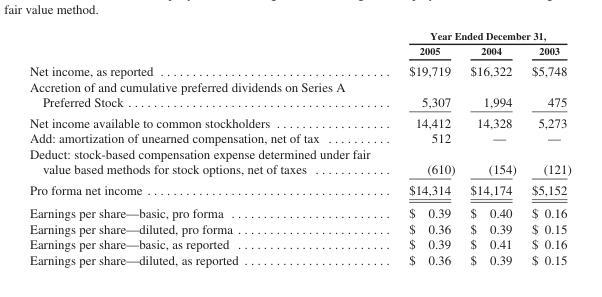table: (28, 29, 570, 266)
table column: (28, 29, 388, 266), (388, 29, 462, 266), (462, 29, 523, 266), (523, 29, 570, 266)
table column header: (28, 29, 570, 59)
table row: (28, 145, 570, 179), (28, 78, 570, 111), (28, 179, 570, 201), (28, 59, 570, 78), (28, 111, 570, 130), (28, 201, 570, 220), (28, 42, 570, 59), (28, 235, 570, 251), (28, 130, 570, 145), (28, 220, 570, 235), (28, 251, 570, 266), (28, 29, 570, 42)
table spanning cell: (388, 29, 570, 42)
